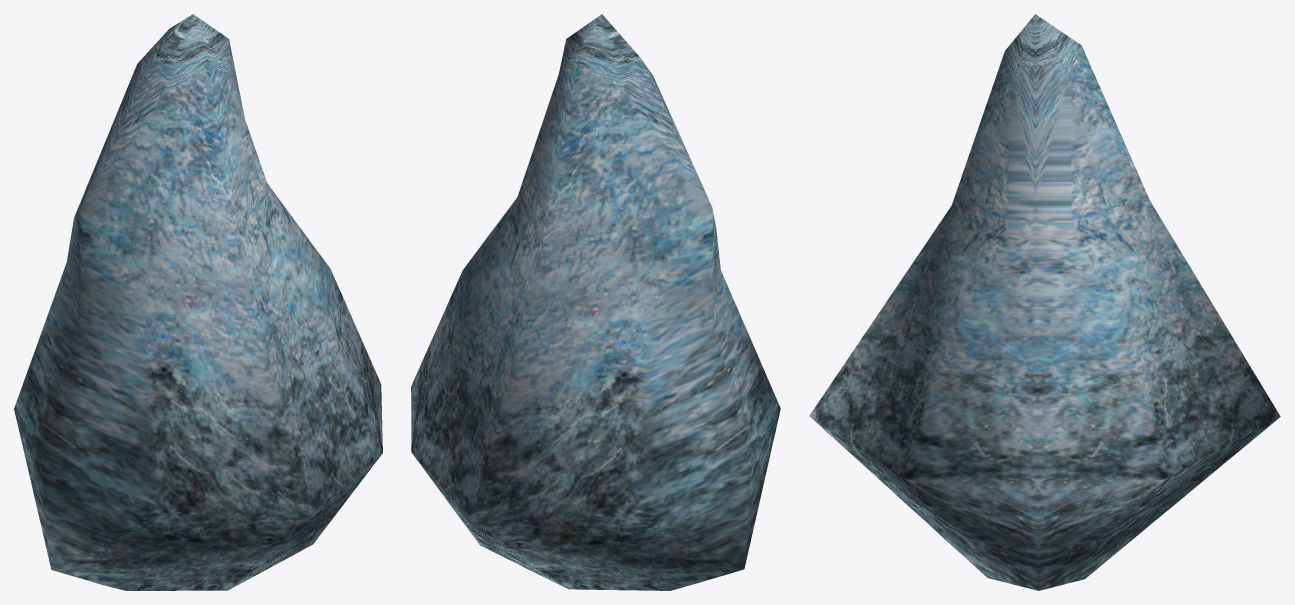
The model's file is thm_all_cave_stalagmite_ice_a2_l1.fbx.
3 views of the same model, side by side, from view 1: azimuth 30°, elevation 25°; view 2: azimuth 150°, elevation 25°; view 3: azimuth 270°, elevation 25° (orthographic). The views are drawn at different scales.
Parts seen in each view (by area): view 1: mesh_node; view 2: mesh_node; view 3: mesh_node.
Boxes of the visible parts, <box> form: mesh_node: <box>14,14,382,590</box>; mesh_node: <box>411,14,780,590</box>; mesh_node: <box>809,14,1280,590</box>.
Bounding box in the file's own units: 0.8366 × 1.33 × 1.04.
